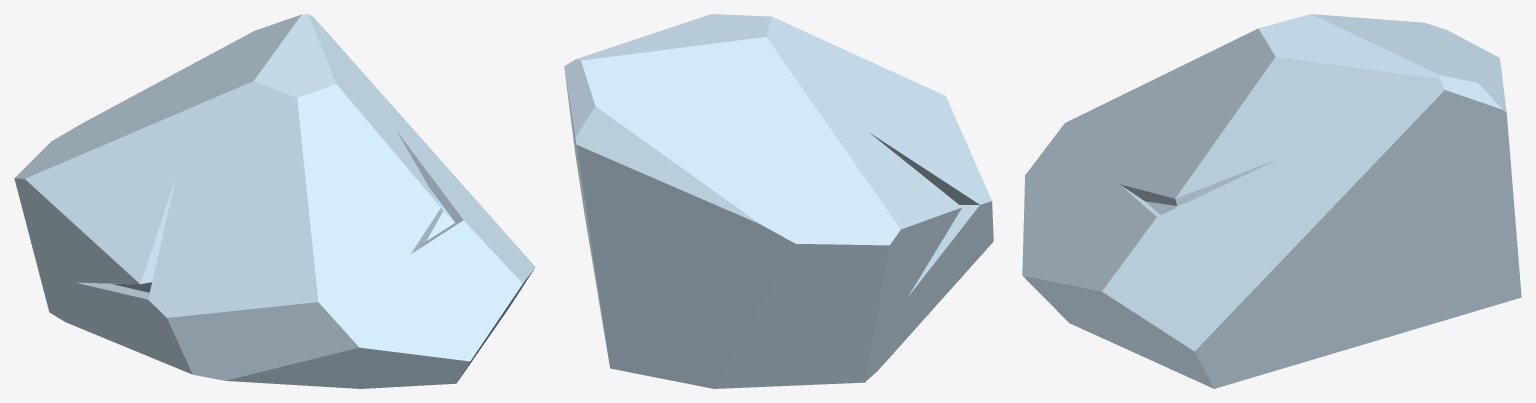
Rendered from Rock 7.fbx.
3 views of the same model, side by side, from view 1: azimuth 30°, elevation 25°; view 2: azimuth 150°, elevation 25°; view 3: azimuth 270°, elevation 25° (orthographic). The views are drawn at different scales.
Visible parts, largest first — view 1: Rock 7; view 2: Rock 7; view 3: Rock 7.
Part boxes in pixels (x1,y1,x2,y2): Rock 7: (14, 14, 535, 388); Rock 7: (564, 14, 993, 388); Rock 7: (1022, 14, 1521, 388).
Bounding box in the file's own units: 130 × 75.35 × 129.
